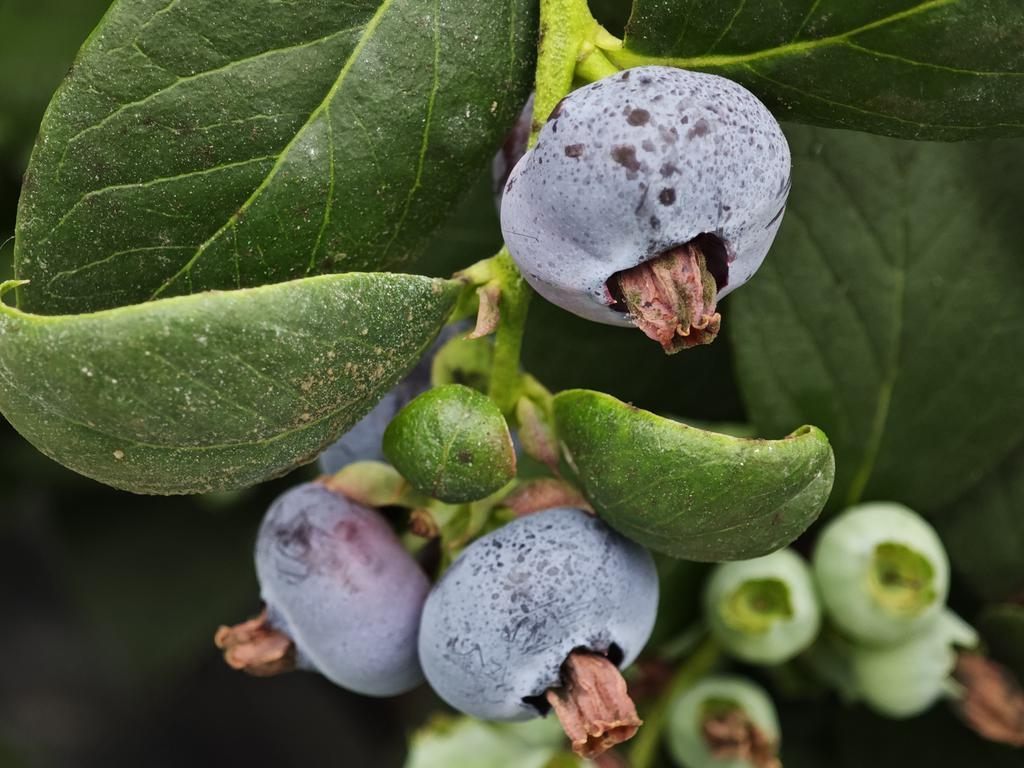RipeBlueBerry: (497, 63, 798, 338), (414, 503, 665, 732)
